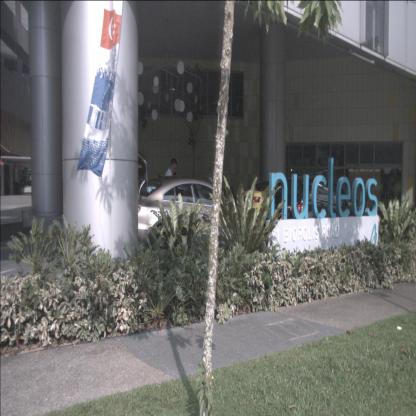human-pedestrian-adult: (164, 158, 178, 239)
vehicle-car: (123, 149, 248, 256), (272, 174, 367, 236), (239, 176, 305, 223)
